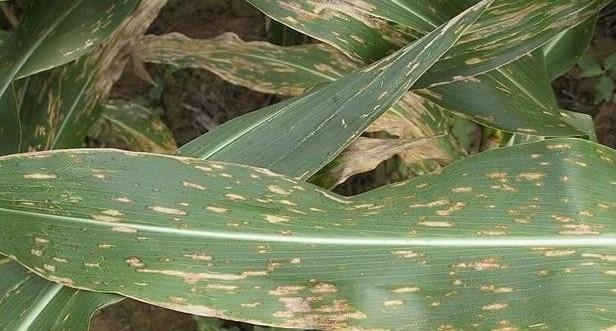Gray_Leaf_Spot: (92, 0, 616, 86), (3, 62, 192, 157), (343, 107, 487, 190), (141, 244, 287, 320), (494, 116, 598, 189), (92, 56, 299, 91), (457, 155, 552, 231), (373, 65, 476, 123), (264, 161, 347, 230), (246, 154, 295, 234), (266, 280, 342, 331), (412, 162, 462, 234), (17, 227, 70, 291), (549, 203, 611, 256), (179, 152, 241, 201), (512, 143, 616, 172), (522, 246, 616, 278), (450, 256, 515, 300), (78, 249, 159, 283), (85, 196, 133, 239), (16, 138, 60, 183), (319, 184, 394, 209), (59, 34, 101, 77), (473, 299, 526, 331), (377, 243, 441, 268), (82, 141, 119, 184), (374, 279, 427, 309), (146, 198, 191, 228), (330, 298, 369, 331), (594, 291, 616, 331), (198, 205, 241, 223), (517, 315, 557, 331), (434, 319, 459, 331)
